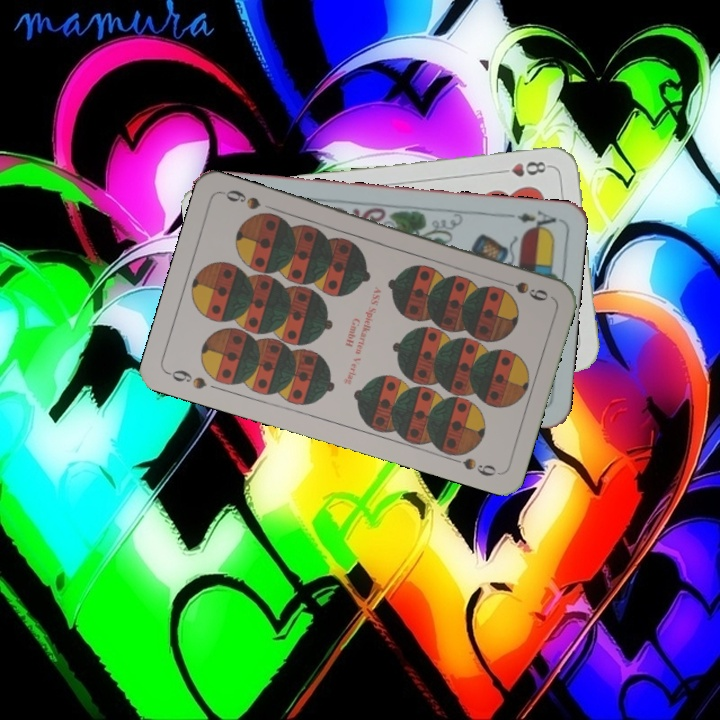EA: (502, 206, 559, 234)
H8: (494, 157, 553, 179)
S9: (494, 276, 551, 304), (164, 365, 209, 392)
